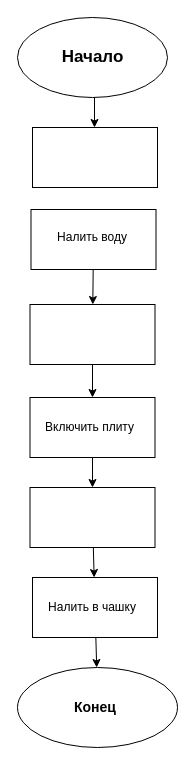
Some shapes in this 195 by 765 pixel diagram are drawn without their labels. The shapes that lost their labels are listed below. From the top down, each one's centre as x and y in pixels, then its label:
At (x=95, y=157): "Взять чайник".
At (x=92, y=334): "Поставить на плиту".
At (x=92, y=517): "Дождаться закипения".
